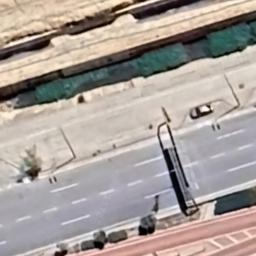sedan: (188, 101, 216, 120)
